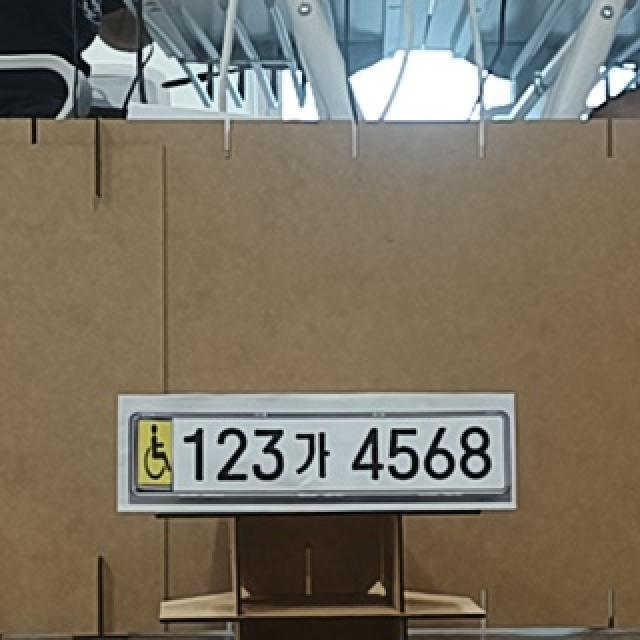disabled: (136, 419, 174, 490)
plate: (128, 414, 515, 503)
